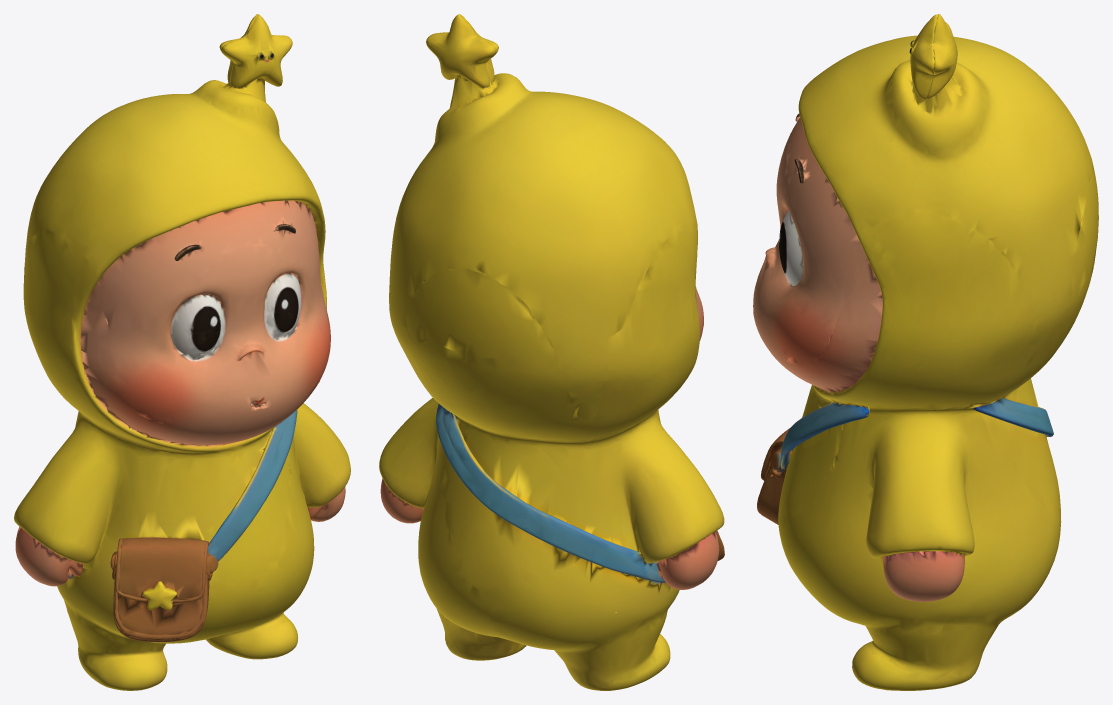
The model's file is twinkle.glb.
3 renders of one model, left to right at view 1: azimuth 30°, elevation 25°; view 2: azimuth 150°, elevation 25°; view 3: azimuth 270°, elevation 25°, orthographic. The views are drawn at different scales.
Visible parts, largest first — view 1: tripo_node_6eb2c655-2fe0-4649-9bb0-40fff06fc1a7; view 2: tripo_node_6eb2c655-2fe0-4649-9bb0-40fff06fc1a7; view 3: tripo_node_6eb2c655-2fe0-4649-9bb0-40fff06fc1a7.
Boxes of the visible parts, x1,y1,x2,y2 form: tripo_node_6eb2c655-2fe0-4649-9bb0-40fff06fc1a7: (14,14,350,690); tripo_node_6eb2c655-2fe0-4649-9bb0-40fff06fc1a7: (379,14,724,690); tripo_node_6eb2c655-2fe0-4649-9bb0-40fff06fc1a7: (753,14,1098,690).
Bounding box in the file's own units: 0.5306 × 0.9803 × 0.4572.
Materials: 1 (1 with a texture image).
